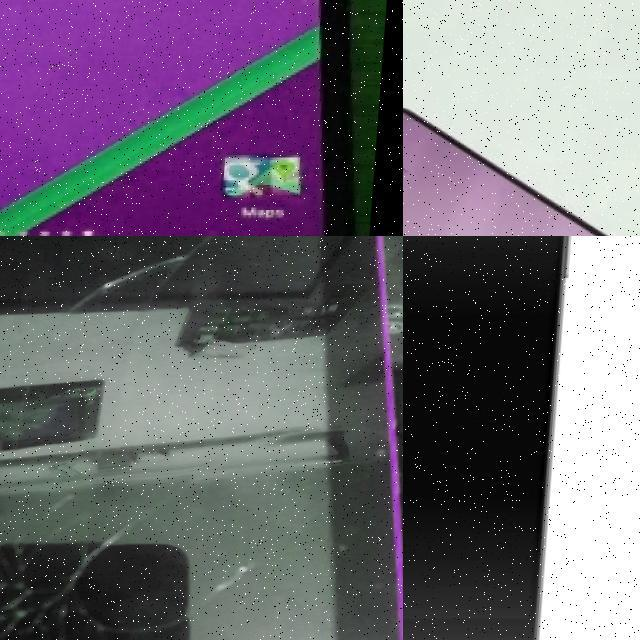screen crack: (0, 451, 333, 640), (42, 236, 311, 338)
